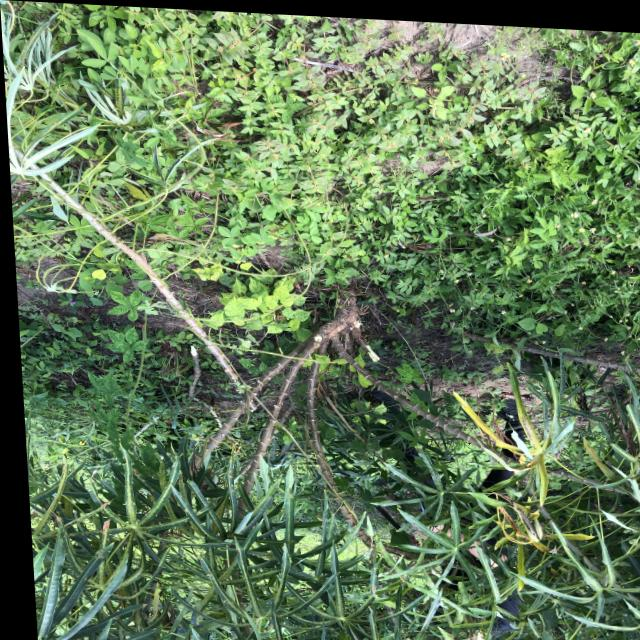Maleza: (102, 6, 423, 283), (403, 23, 639, 227), (213, 269, 311, 336)
